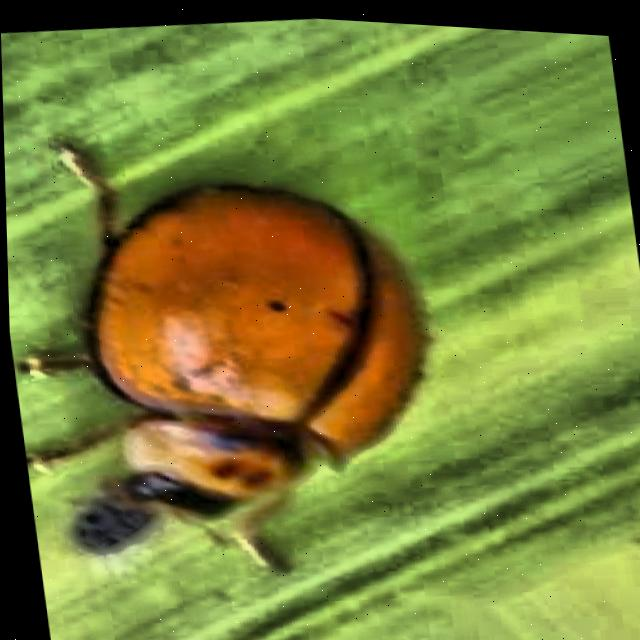Ladybug: (2, 86, 503, 636)
